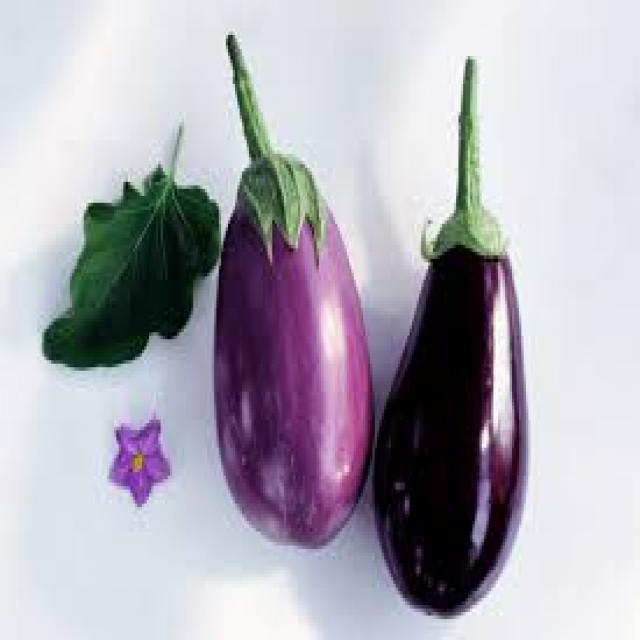Eggplant: (375, 56, 528, 614), (219, 35, 375, 547)
